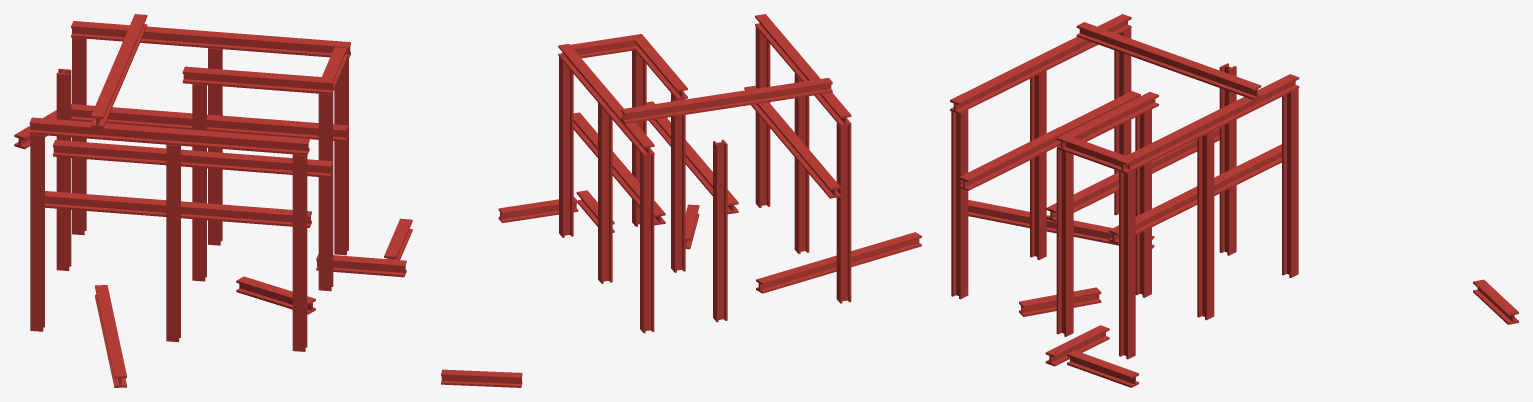
File: beam.fbx
3 renders of one model, left to right at view 1: azimuth 30°, elevation 25°; view 2: azimuth 150°, elevation 25°; view 3: azimuth 270°, elevation 25°, orthographic. The views are drawn at different scales.
Visible parts, largest first — view 1: beam.003_cell, beam.010_cell.001, beam.013_cell, beam.022_cell.001, beam.014_cell.001, beam.008_cell, beam.015_cell, beam.015_cell.001, beam.009_cell, beam.012_cell.001, beam.001_cell.001, beam.012_cell (+23 smaller); view 2: beam.001_cell.001, beam.009_cell, beam.003_cell, beam.014_cell.001, beam.016_cell.001, beam.016_cell, beam.022_cell.001, beam.011_cell, beam.013_cell, beam.007_cell, beam.011_cell.001, beam.012_cell (+20 smaller); view 3: beam.003_cell, beam.008_cell, beam.001_cell.001, beam.022_cell.001, beam.014_cell.001, beam.013_cell, beam.009_cell, beam.015_cell.001, beam.016_cell.001, beam.006_cell.001, beam.006_cell, beam.010_cell.001 (+24 smaller).
Part boxes in pixels (<box>): beam.003_cell: <box>71,21,350,58</box>; beam.010_cell.001: <box>53,140,331,177</box>; beam.013_cell: <box>29,117,308,155</box>; beam.022_cell.001: <box>71,104,348,141</box>; beam.014_cell.001: <box>166,144,180,342</box>; beam.008_cell: <box>318,92,333,291</box>; beam.015_cell: <box>45,191,166,216</box>; beam.015_cell.001: <box>181,201,311,227</box>; beam.009_cell: <box>192,84,206,280</box>; beam.012_cell.001: <box>292,154,307,257</box>; beam.001_cell.001: <box>72,38,86,235</box>; beam.012_cell: <box>292,253,307,351</box>; beam.001_cell.001: <box>640,152,654,333</box>; beam.009_cell: <box>671,93,685,272</box>; beam.003_cell: <box>558,44,654,155</box>; beam.014_cell.001: <box>794,73,809,251</box>; beam.016_cell.001: <box>621,93,731,123</box>; beam.016_cell: <box>728,77,832,107</box>; beam.022_cell.001: <box>573,112,665,220</box>; beam.011_cell: <box>836,212,851,303</box>; beam.013_cell: <box>759,14,851,126</box>; beam.007_cell: <box>713,139,727,235</box>; beam.011_cell.001: <box>836,123,851,216</box>; beam.012_cell: <box>755,119,770,207</box>; beam.003_cell: <box>1117,74,1299,173</box>; beam.008_cell: <box>1056,148,1073,336</box>; beam.001_cell.001: <box>1282,88,1298,277</box>; beam.022_cell.001: <box>1108,144,1281,244</box>; beam.014_cell.001: <box>1030,70,1046,259</box>; beam.013_cell: <box>950,14,1131,112</box>; beam.009_cell: <box>1135,109,1151,294</box>; beam.015_cell.001: <box>959,133,1055,190</box>; beam.016_cell.001: <box>1162,53,1261,99</box>; beam.006_cell.001: <box>1197,224,1214,320</box>; beam.006_cell: <box>1197,131,1214,228</box>; beam.010_cell.001: <box>1047,128,1219,218</box>.
Size of the model in its own units: 12.4 by 9.23 by 5.
